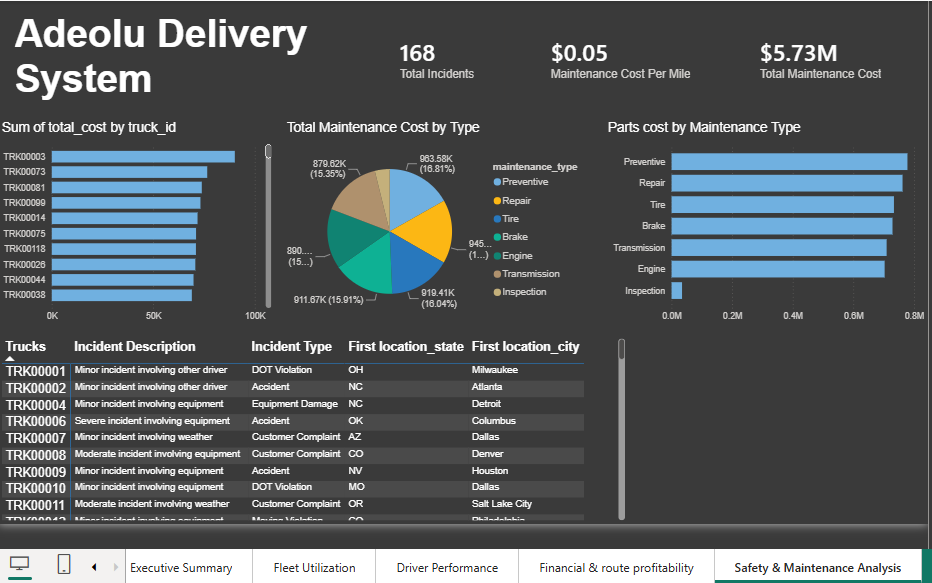

Layout of this report page (visuals, bound fields, positions):
{"tool":"powerbi","page":{"name":"Safety & Maintenance Analysis","canvas":[1280,720],"ordinal":4},"visuals":[{"type":"cardVisual","fields":{"Data":["key_metrics.Total Maintenance Cost"]},"box":[1018.5,0,261.5,154.2],"z":0},{"type":"cardVisual","fields":{"Data":["key_metrics.Total Incidents"]},"box":[523,0,192.7,154.2],"z":1000},{"type":"cardVisual","fields":{"Data":["key_metrics.Maintenance Cost Per Mile"]},"box":[730.8,0,275.3,154.2],"z":2000},{"type":"barChart","fields":{"Category":["maintenance_records.truck_id"],"Y":["Sum(maintenance_records.total_cost)"]},"box":[0,164.3,381.4,285.7],"z":3000},{"type":"pieChart","title":"Total Maintenance Cost by Type","fields":{"Category":["maintenance_records.maintenance_type"],"Y":["Sum(maintenance_records.total_cost)"]},"box":[392.9,164.3,425.7,285.7],"z":4000},{"type":"barChart","title":"Parts cost by Maintenance Type","fields":{"Category":["maintenance_records.maintenance_type"],"Y":["Sum(maintenance_records.parts_cost)"]},"box":[834.3,164.3,445.7,285.7],"z":5000},{"type":"pivotTable","fields":{"Rows":["safety_incidents.truck_id"],"Values":["Min(safety_incidents.description)","Min(safety_incidents.incident_type)","Min(safety_incidents.location_state)","Min(safety_incidents.location_city)"]},"box":[0,459.6,868.2,260.3],"z":6000},{"type":"textbox","box":[17.9,9.6,461.1,134.9],"z":6001}]}

Visuals, with their boxes on the page's 1280x720 design canvas (x1, y1, x2, y2). These are canvas units, not pixel positions in the 932x583 screenshot, which may show the page scaled, cropped or inside an application window:
cardVisual - key_metrics.Total Maintenance Cost: BBox(1018, 0, 1280, 154)
cardVisual - key_metrics.Total Incidents: BBox(523, 0, 716, 154)
cardVisual - key_metrics.Maintenance Cost Per Mile: BBox(731, 0, 1006, 154)
barChart - maintenance_records.truck_id x Sum(maintenance_records.total_cost): BBox(0, 164, 381, 450)
"Total Maintenance Cost by Type" pieChart: BBox(393, 164, 819, 450)
"Parts cost by Maintenance Type" barChart: BBox(834, 164, 1280, 450)
pivotTable - safety_incidents.truck_id x Min(safety_incidents.description): BBox(0, 460, 868, 720)
textbox: BBox(18, 10, 479, 144)
